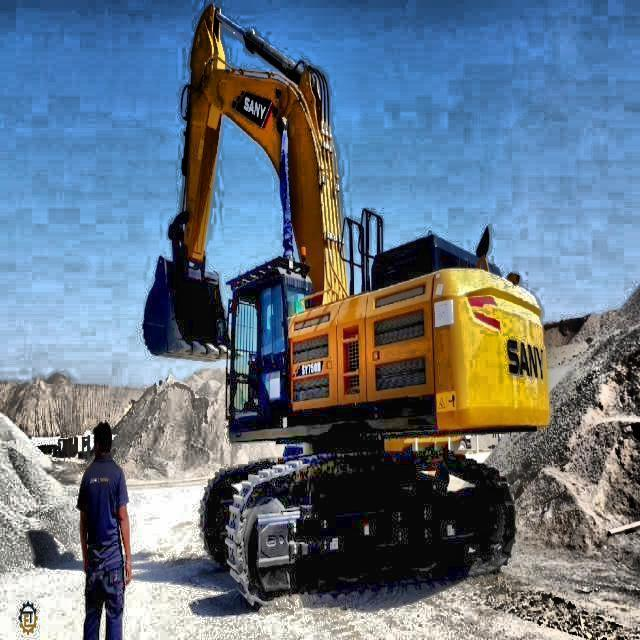excavator: (140, 0, 548, 609)
